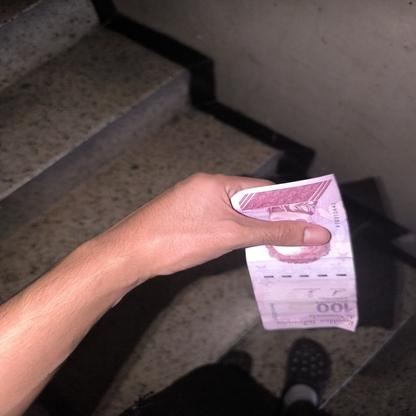vef_front: (229, 172, 358, 332)
